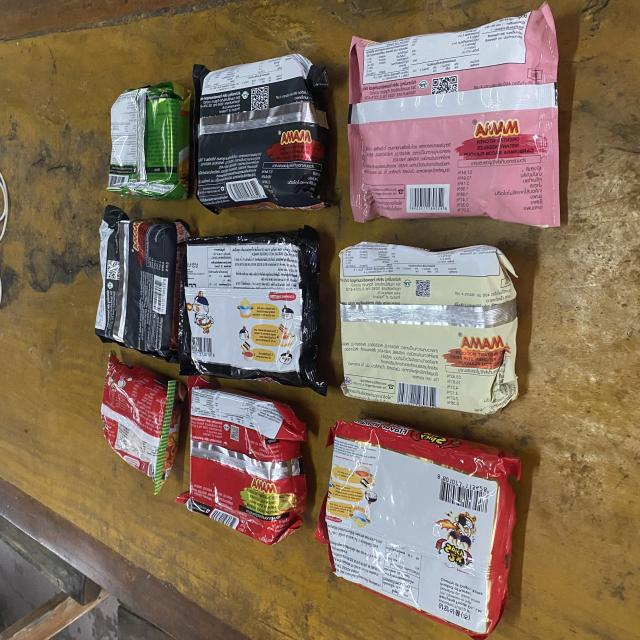plastik: (348, 3, 560, 226), (315, 420, 521, 640), (340, 243, 518, 414), (177, 378, 305, 544), (193, 54, 328, 210), (186, 243, 303, 372), (95, 206, 190, 362), (102, 353, 186, 492), (108, 82, 191, 200)
